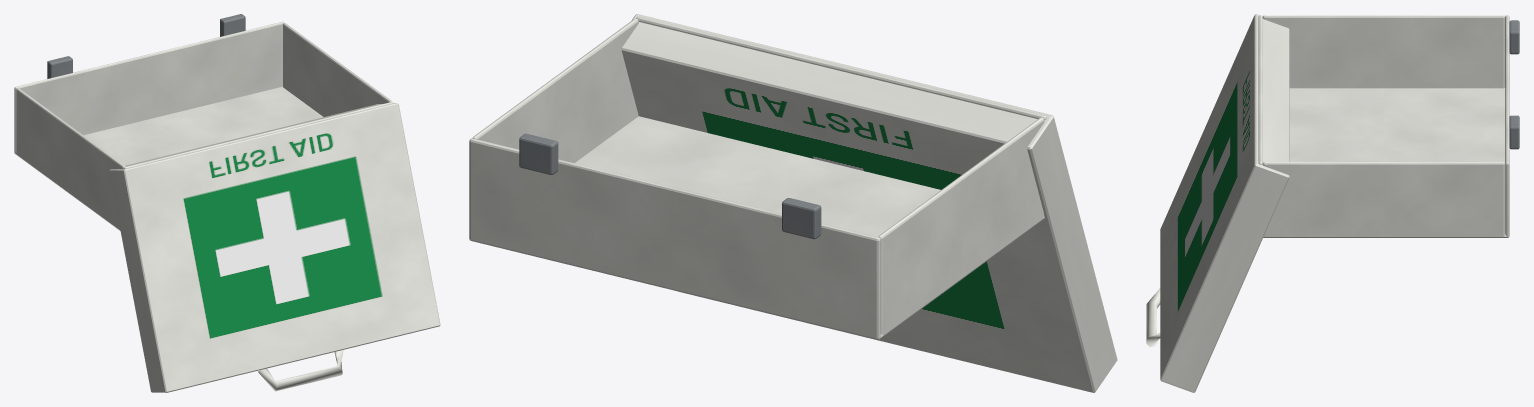
Rendered from lootbox_medcase_open.glb.
3 views of the same model, side by side, from view 1: azimuth 30°, elevation 25°; view 2: azimuth 150°, elevation 25°; view 3: azimuth 270°, elevation 25° (orthographic). The views are drawn at different scales.
Parts seen in each view (by area): view 1: lid, mc_front, mc_floor, mc_left, mc_right, handle, mc_back, latch-1, latch1; view 2: lid, mc_front, mc_floor, mc_left, mc_right, mc_back, latch-1, latch1; view 3: lid, mc_right, mc_floor, mc_left, mc_front, mc_back, handle, latch1, latch-1.
Boxes of the visible parts, left/top/right/bottom form: lid: left=109, top=103, right=440, bottom=392; mc_front: left=14, top=21, right=284, bottom=152; mc_floor: left=14, top=86, right=323, bottom=230; mc_left: left=16, top=88, right=125, bottom=229; mc_right: left=283, top=23, right=392, bottom=116; handle: left=258, top=350, right=343, bottom=391; mc_back: left=124, top=102, right=393, bottom=168; latch-1: left=47, top=56, right=72, bottom=78; latch1: left=220, top=14, right=245, bottom=36; lid: left=621, top=14, right=1117, bottom=392; mc_front: left=469, top=138, right=880, bottom=338; mc_floor: left=469, top=116, right=1044, bottom=339; mc_left: left=878, top=117, right=1044, bottom=337; mc_right: left=472, top=18, right=638, bottom=162; mc_back: left=636, top=16, right=1046, bottom=120; latch-1: left=782, top=198, right=821, bottom=239; latch1: left=519, top=133, right=558, bottom=174; lid: left=1160, top=14, right=1289, bottom=392; mc_right: left=1262, top=162, right=1505, bottom=237; mc_floor: left=1263, top=88, right=1509, bottom=237; mc_left: left=1262, top=15, right=1505, bottom=88; mc_front: left=1505, top=15, right=1509, bottom=236; mc_back: left=1258, top=15, right=1262, bottom=164; handle: left=1146, top=288, right=1160, bottom=346; latch1: left=1509, top=115, right=1519, bottom=149; latch-1: left=1509, top=20, right=1519, bottom=54.
Size of the model in its own units: 0.428 by 0.3367 by 0.4461.
3 materials, 3 textured.
